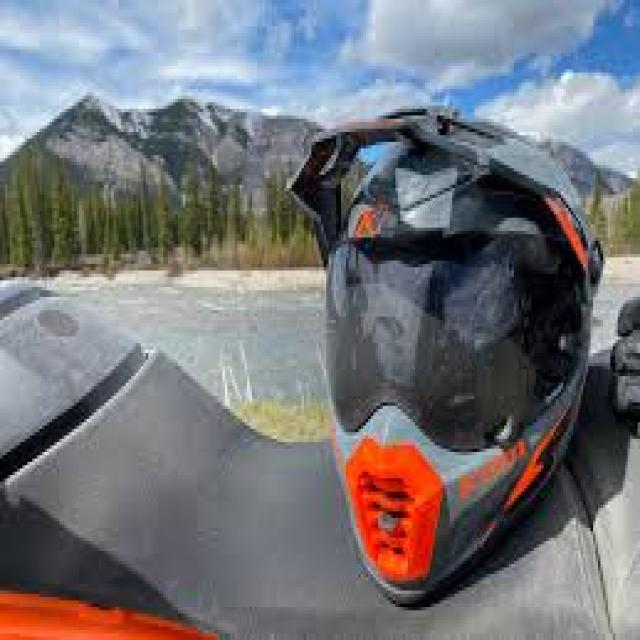Helmet: (291, 108, 603, 603)
